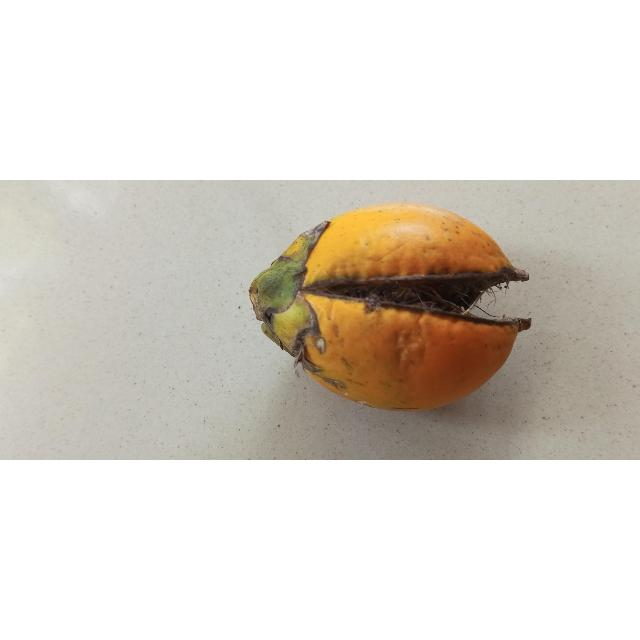damaged: (250, 203, 533, 413)
